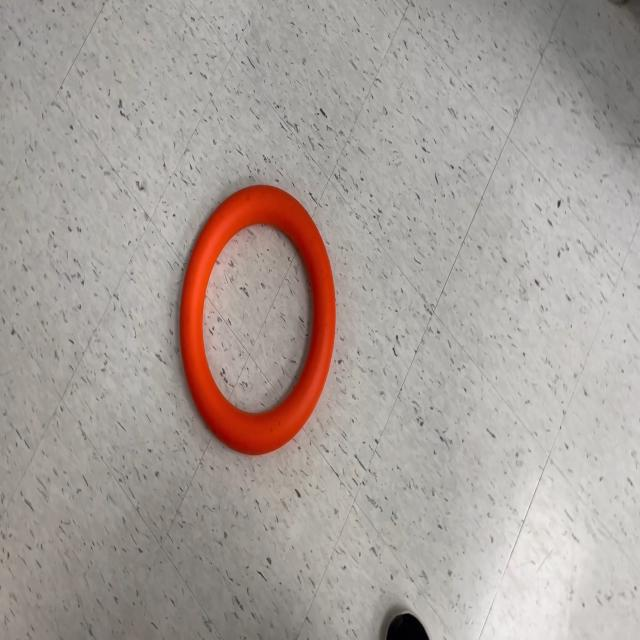note: (179, 186, 337, 454)
